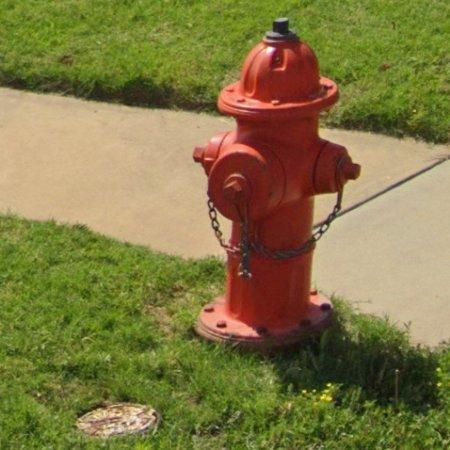a fire hydrant: (193, 18, 361, 348)
